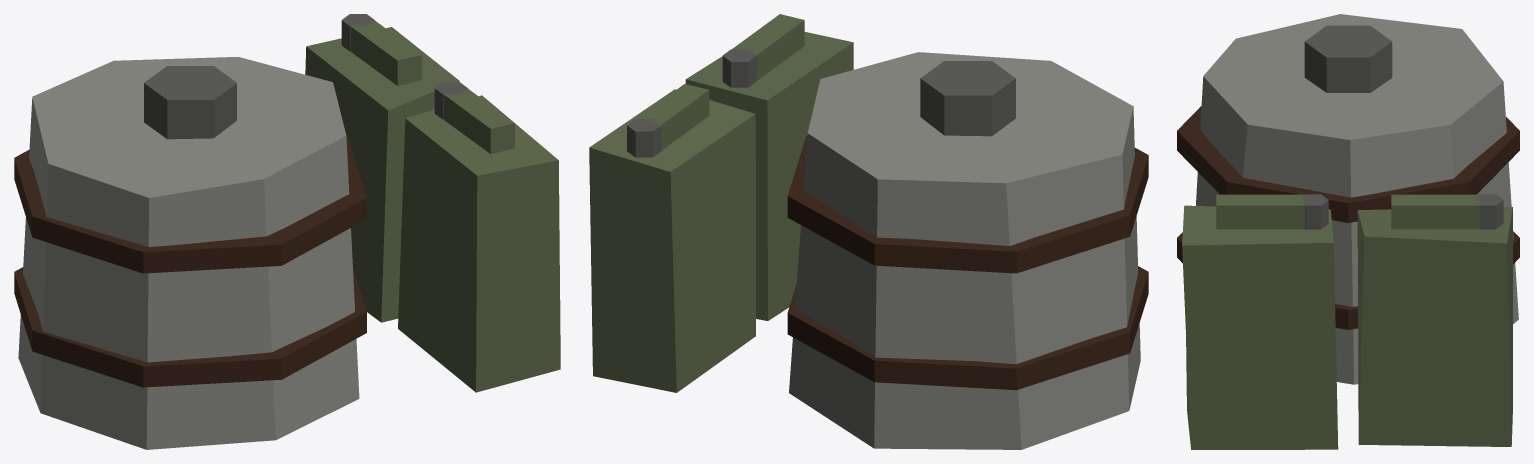
File: good_water.glb
The picture shows the model from 3 angles, left to right: view 1: azimuth 30°, elevation 25°; view 2: azimuth 150°, elevation 25°; view 3: azimuth 270°, elevation 25°; orthographic projection. The views are drawn at different scales.
Parts seen in each view (by area): view 1: good_water; view 2: good_water; view 3: good_water.
Boxes of the visible parts, left/top/right/bottom form: good_water: left=14, top=14, right=560, bottom=449; good_water: left=589, top=14, right=1148, bottom=449; good_water: left=1177, top=14, right=1519, bottom=449.
Size of the model in its own units: 0.5513 by 0.35 by 0.392.
